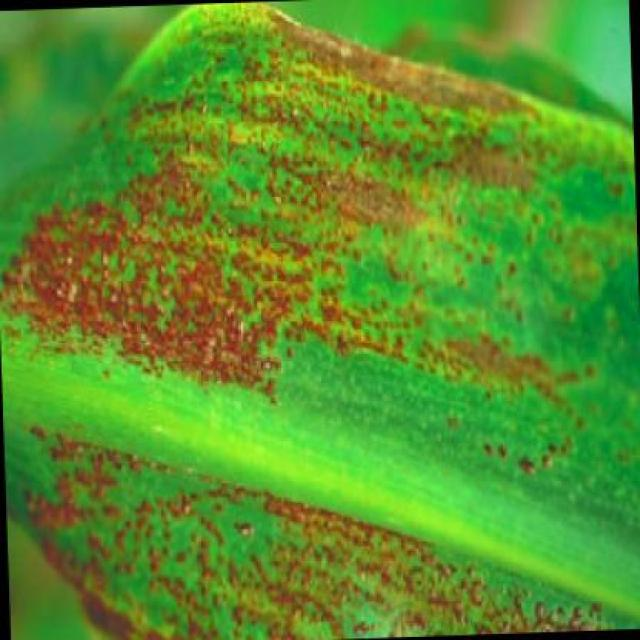Corn_Rust: (25, 16, 617, 618)
